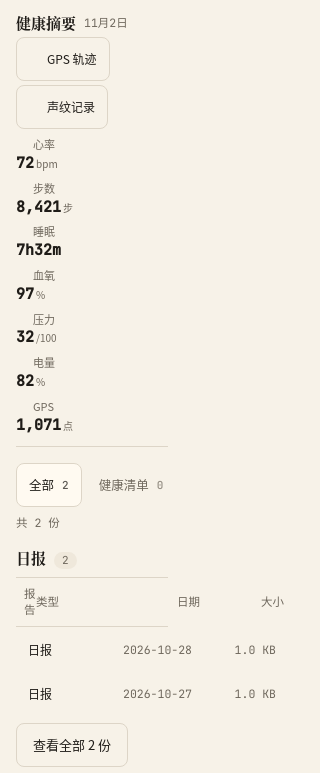
ReportsView › renders a family empty state with a path back to all reports
Click the button with test id "report-tab-health": click(131, 485) [86,463,176,507]
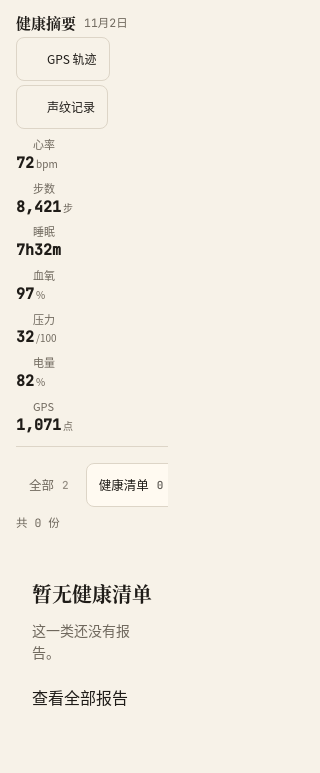
Now the element with test id "reports-family-empty" shows "暂无健康清单", box [32,578,152,608]
Now the element with test id "reports-family-empty" shows "这一类还没有报告。", box [32,620,130,662]
Click the button with class "ax-state__action": click(80, 697) [32,675,128,719]
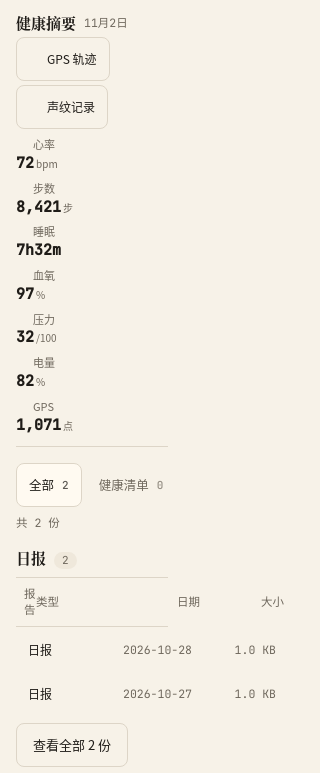
Now the element with test id "report-section-daily" is shown, box [16,548,168,767]
